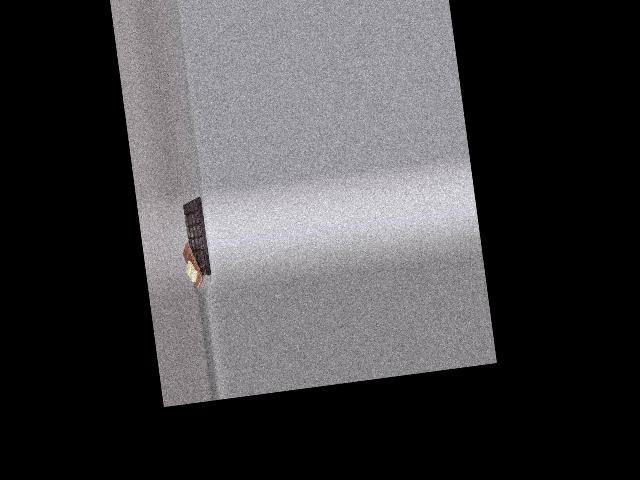chocolate: (179, 195, 214, 282)
